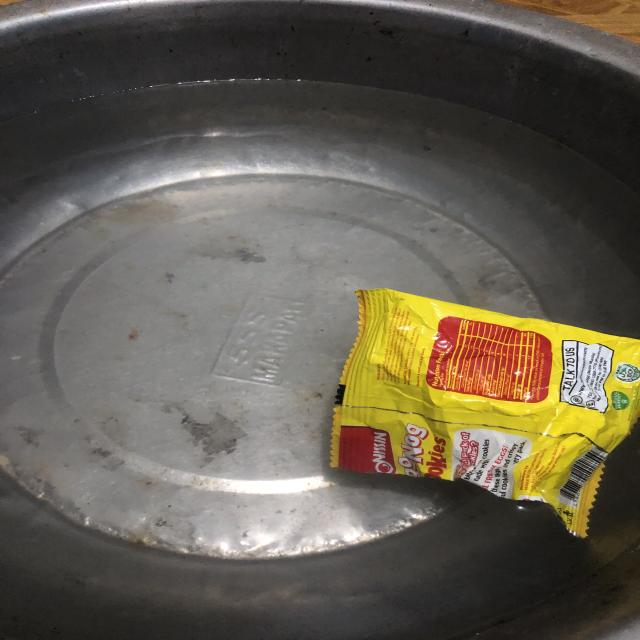Plastic Wrapper: (330, 286, 640, 536)
